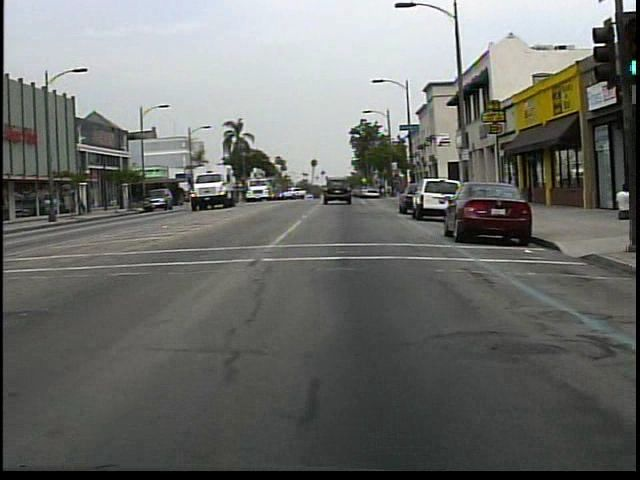person: (78, 191, 88, 216)
